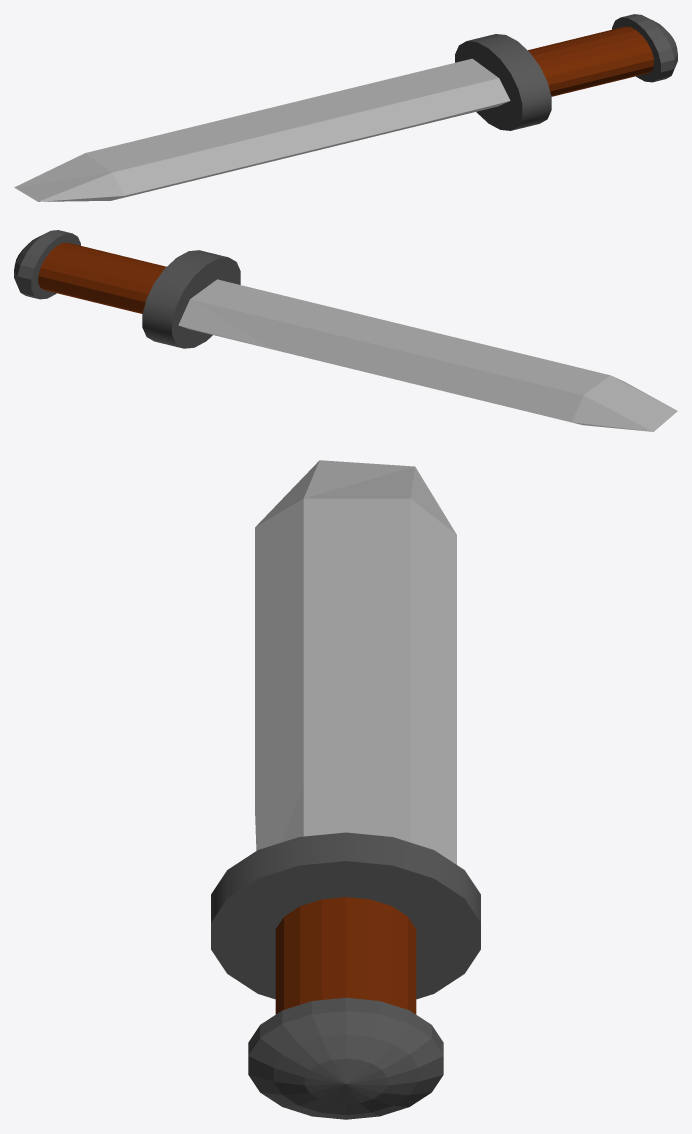
Rendered from epeeprojet.FBX.
3 views of the same model, one above another, from view 1: azimuth 30°, elevation 25°; view 2: azimuth 150°, elevation 25°; view 3: azimuth 270°, elevation 25° (orthographic). The views are drawn at different scales.
Parts seen in each view (by area): view 1: Cylinder001; view 2: Cylinder001; view 3: Cylinder001.
Part boxes in pixels (x1=…): Cylinder001: x1=14, y1=14, x2=677, y2=201; Cylinder001: x1=14, y1=230, x2=677, y2=431; Cylinder001: x1=211, y1=460, x2=480, y2=1119.
Bounding box in the file's own units: 75.64 × 8.51 × 13.85.
